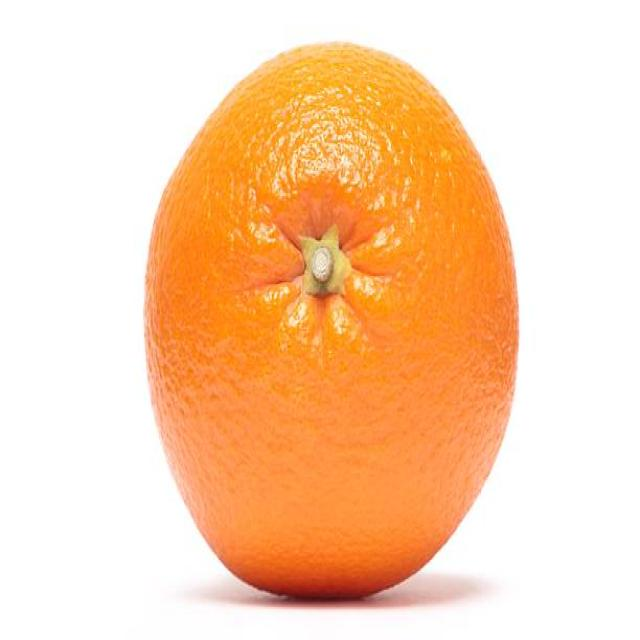Ripe: (136, 42, 525, 601)
